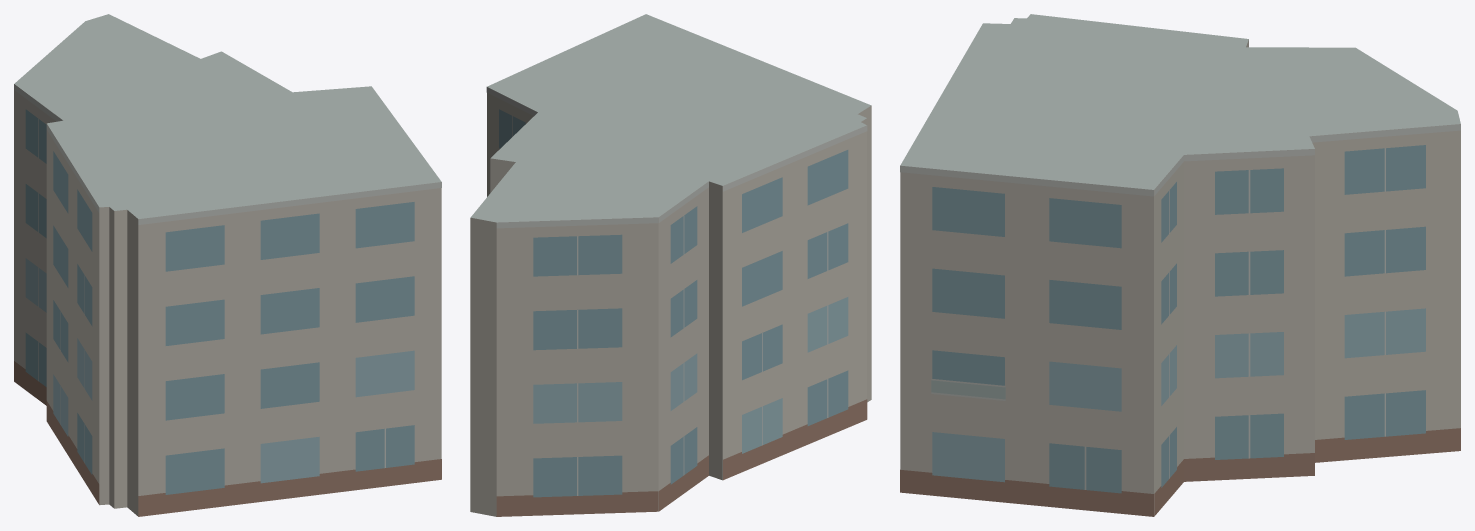
Rendered from survey-upis-32580516.glb.
The picture shows the model from 3 angles, left to right: view 1: azimuth 30°, elevation 25°; view 2: azimuth 150°, elevation 25°; view 3: azimuth 270°, elevation 25°; orthographic projection. The views are drawn at different scales.
Parts seen in each view (by area): view 1: survey-upis-32580516.tmp; view 2: survey-upis-32580516.tmp; view 3: survey-upis-32580516.tmp.
Boxes of the visible parts, x1,y1,x2,y2 form: survey-upis-32580516.tmp: (14,14,441,516); survey-upis-32580516.tmp: (470,14,871,516); survey-upis-32580516.tmp: (900,14,1460,516).
Bounding box in the file's own units: 14.09 × 12.2 × 18.97.
